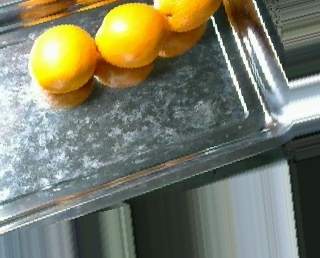Orange: (93, 3, 170, 68), (27, 23, 98, 93)
